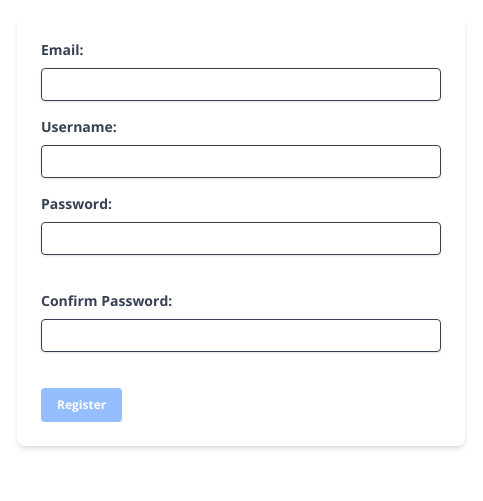
Scenario: RegisterForm › handles successful registration submission
This screenshot has width=483, height=501.
Type "test@example.com" into the field labelled "Email:" at [241, 84], box [41,68,441,101]
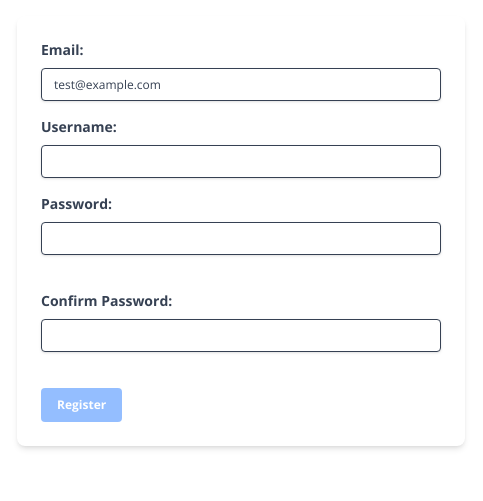
Type "testuser" into the field labelled "Username:" at [241, 162], box [41,145,441,178]
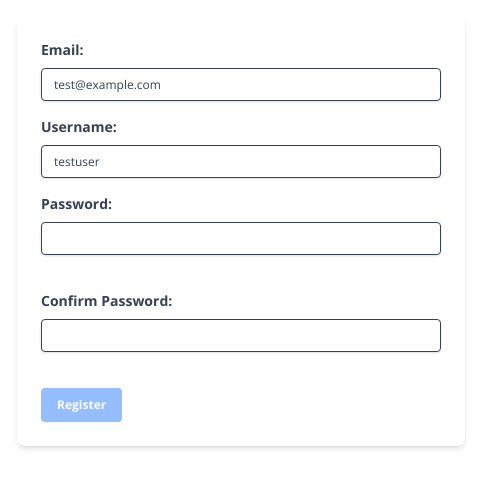
Type "StrongP@ss1!" into the password field labelled "Password:" at [241, 238], box [41,222,441,255]
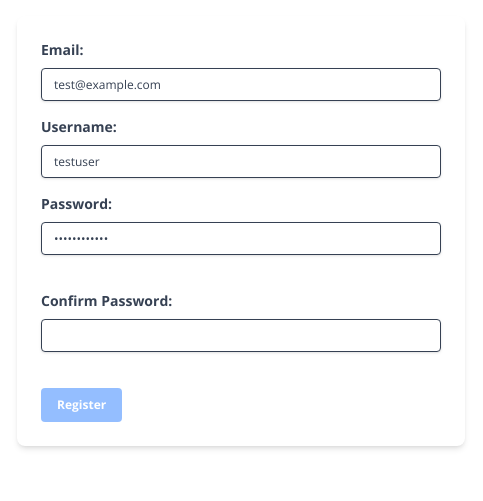
Type "StrongP@ss1!" into the password field with id "confirmPassword" at [241, 336], box [41,319,441,352]
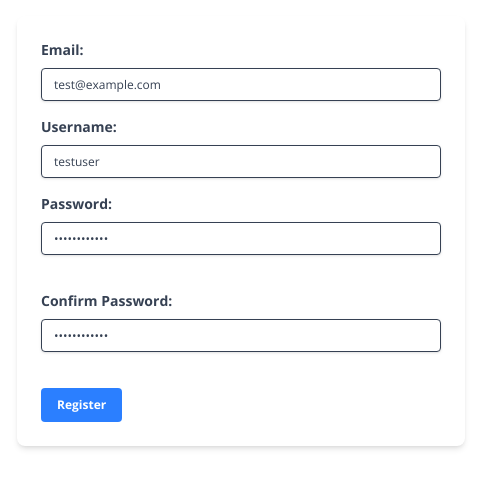
Submit the form
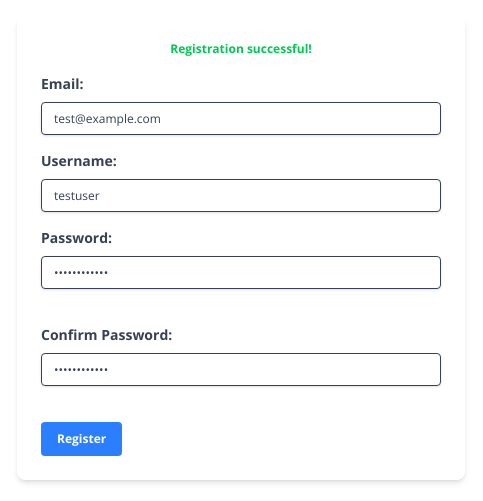
Expected: the text with class "success-message" reads "Registration successful!", [170,40,312,57]
